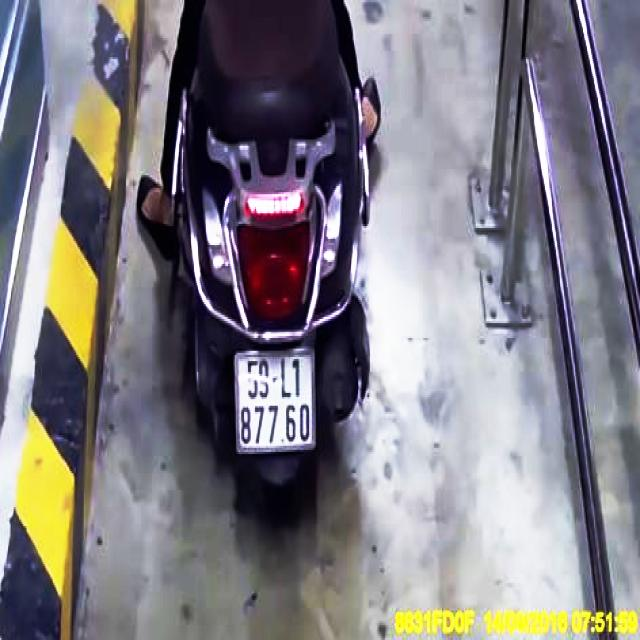license_plate: (237, 352, 315, 451)
